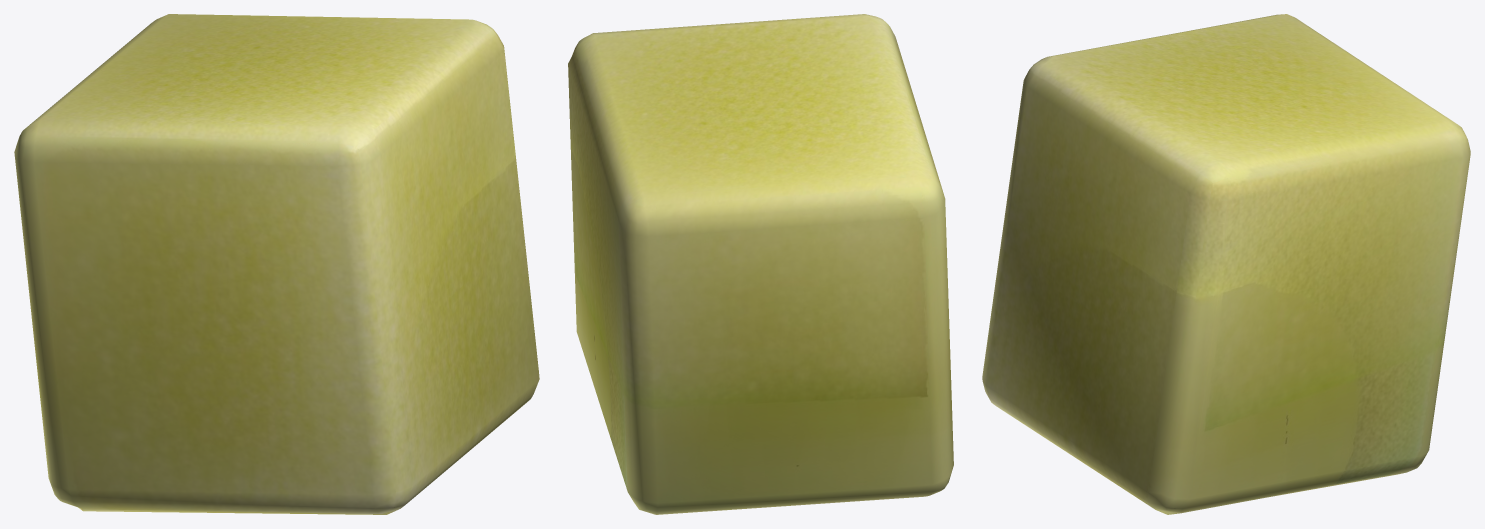
The model's file is Melon_Cube.fbx.
3 views of the same model, side by side, from view 1: azimuth 30°, elevation 25°; view 2: azimuth 150°, elevation 25°; view 3: azimuth 270°, elevation 25° (orthographic). The views are drawn at different scales.
Visible parts, largest first — view 1: Melon_Cube; view 2: Melon_Cube; view 3: Melon_Cube.
Boxes of the visible parts, left/top/right/bottom form: Melon_Cube: left=14, top=14, right=539, bottom=514; Melon_Cube: left=568, top=14, right=953, bottom=514; Melon_Cube: left=982, top=14, right=1470, bottom=514.
Bounding box in the file's own units: 0.037 × 0.033 × 0.037.
1 material, 1 textured.
